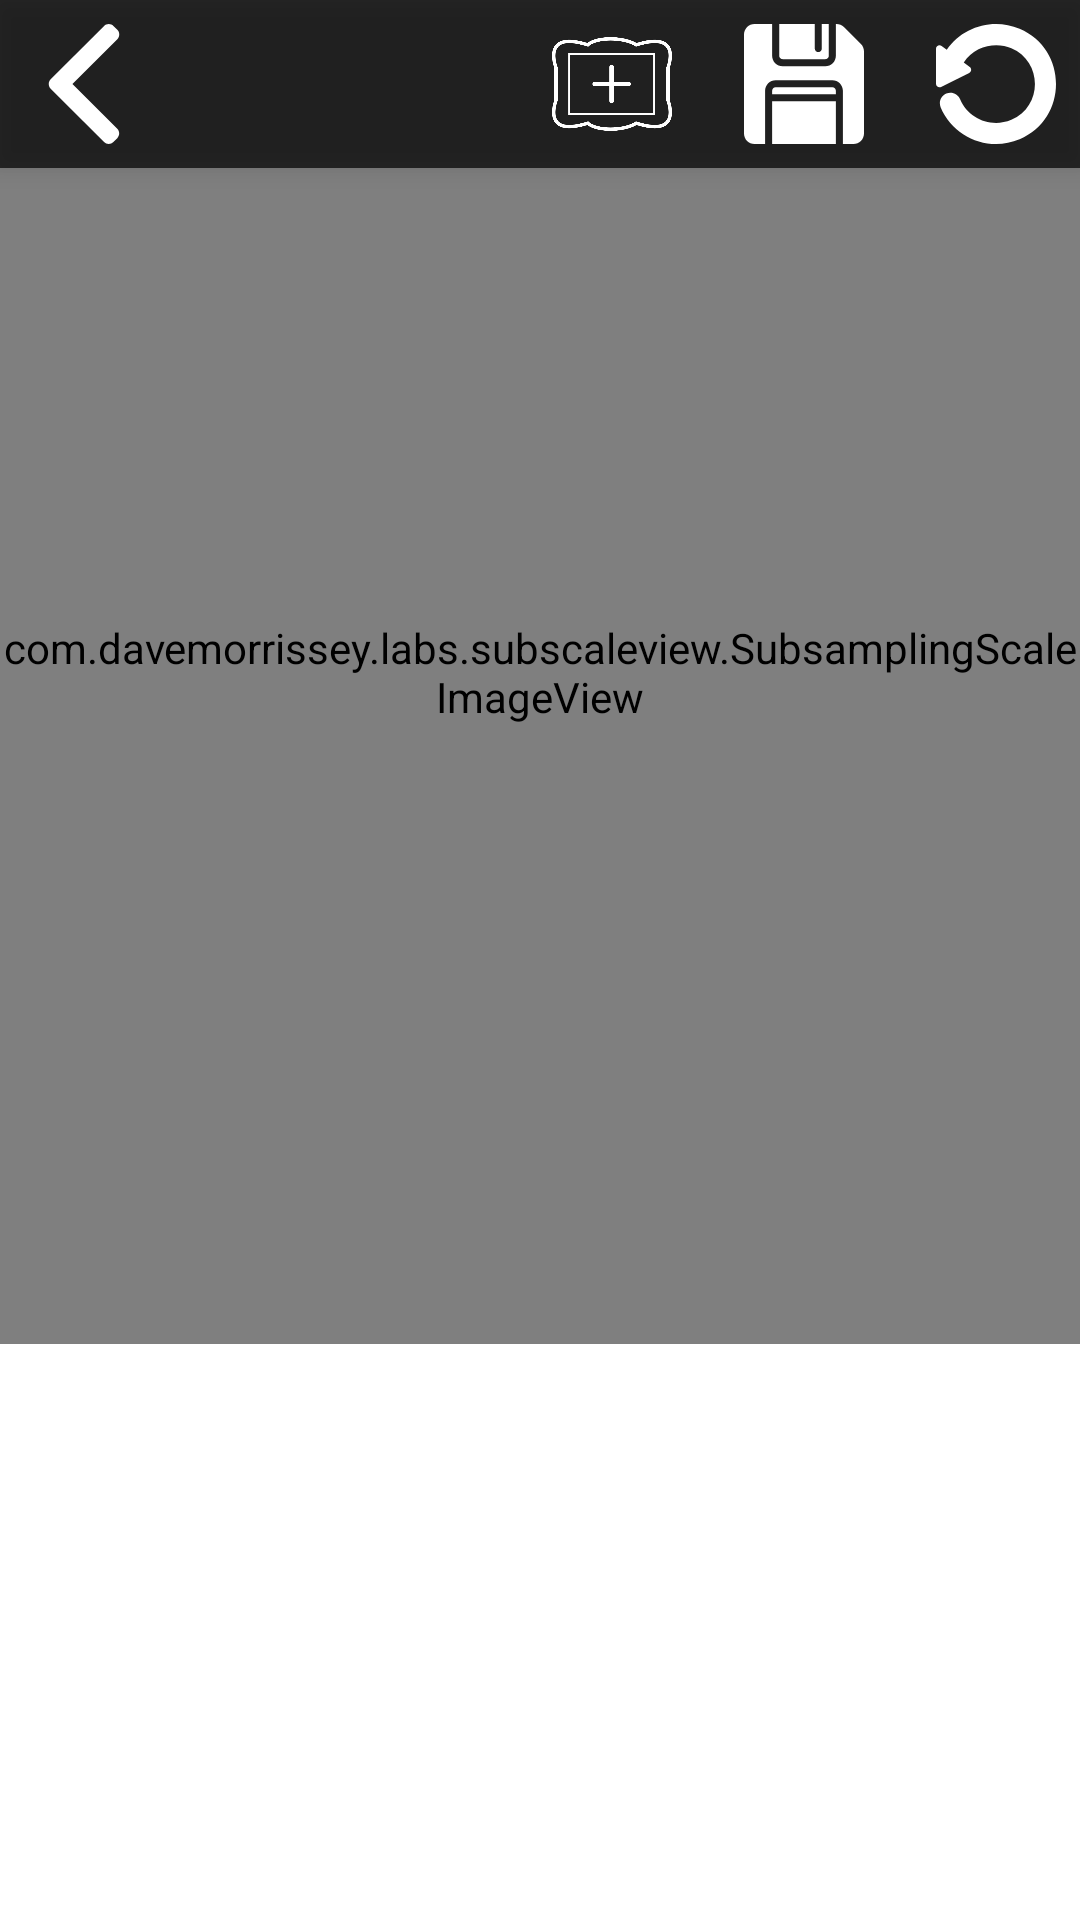

Named icons in this screenshot (1080×1920) and their centers, point (x, y):
add frame: point (612, 84)
left arrow: point (84, 84)
refresh: point (996, 84)
save result: point (804, 84)
